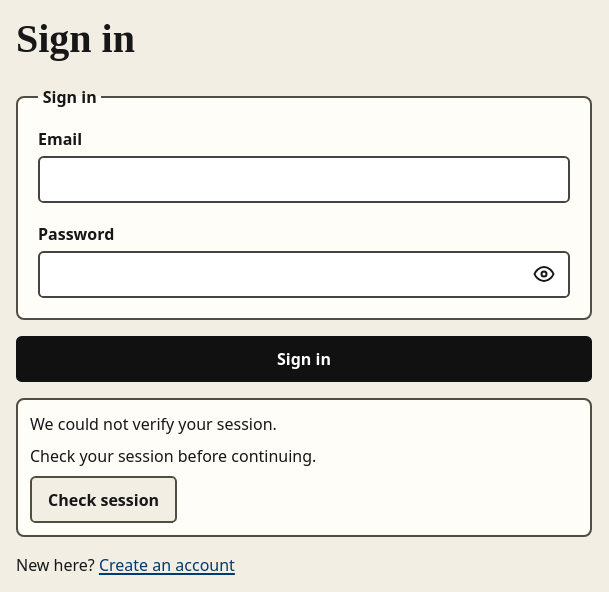
signin-form: › locks duplicate submit and navigates only after the intended identity is verified
Type "ada@example.test" into the field labelled "Email" at point(304, 179), box x1=38 y1=156 x2=570 y2=203
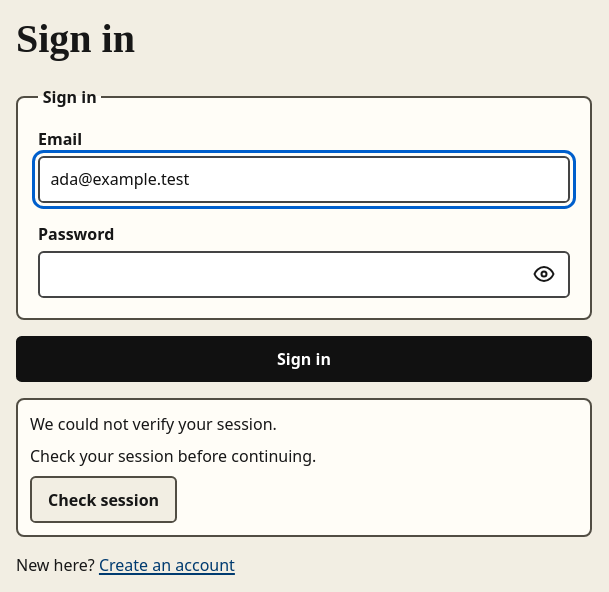
Type "short" into the password field labelled "Password" at point(304, 274), box x1=38 y1=251 x2=570 y2=298
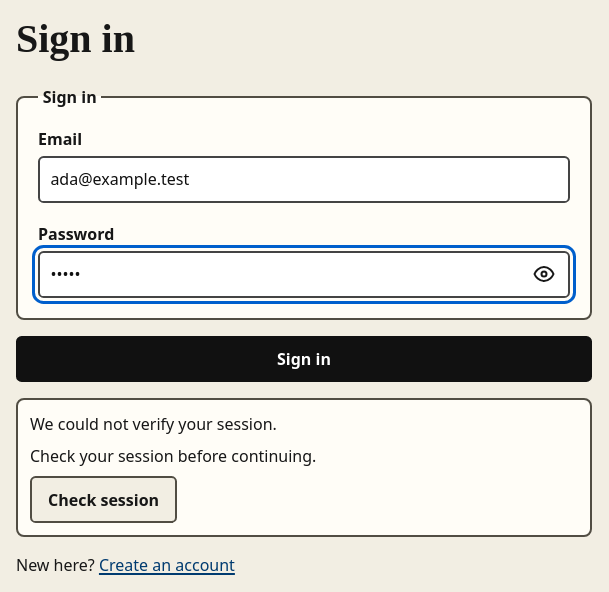
Click the button "Sign in" at point(304, 359), box x1=16 y1=336 x2=592 y2=382
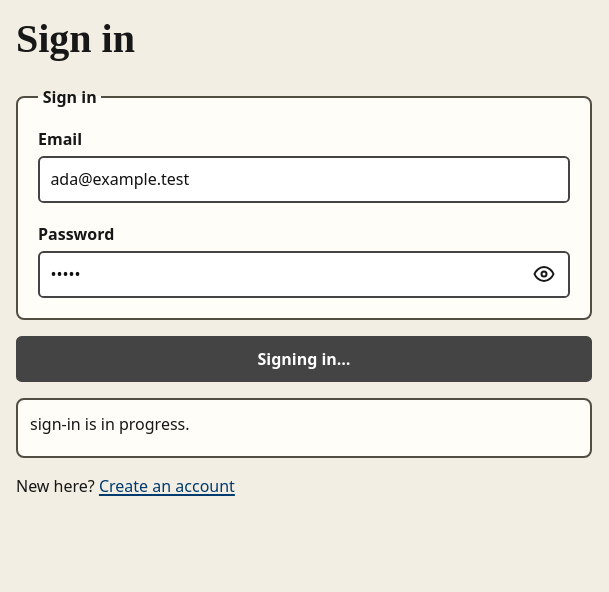
Now the button named "Sign in" is disabled
Click the button named "Sign in" at point(304, 359), box x1=16 y1=336 x2=592 y2=382
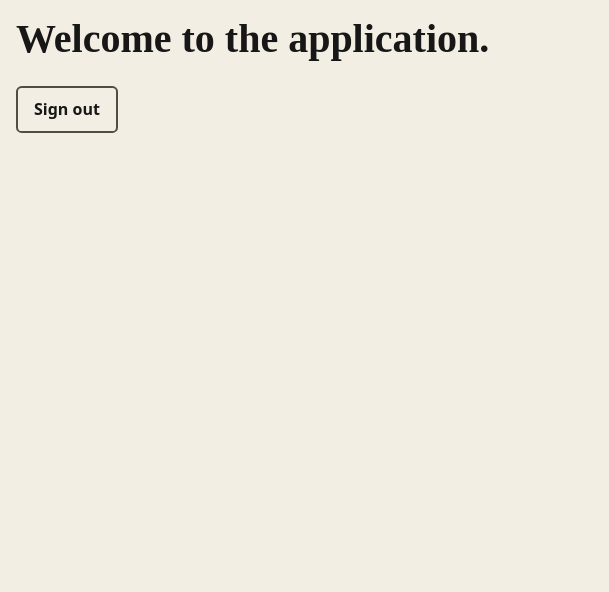
Now the heading "Welcome to the application." is shown, box x1=16 y1=16 x2=489 y2=61
Now the message "sign-in is in progress." is gone
